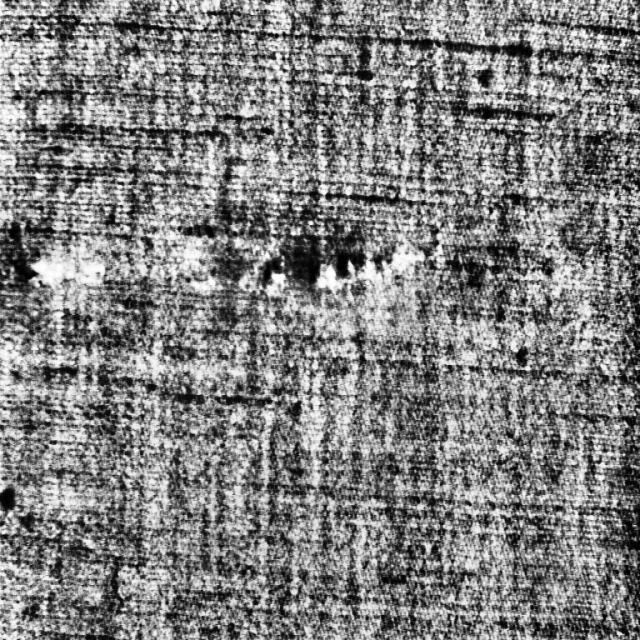gray stitch: (236, 236, 430, 294), (6, 248, 110, 293)
